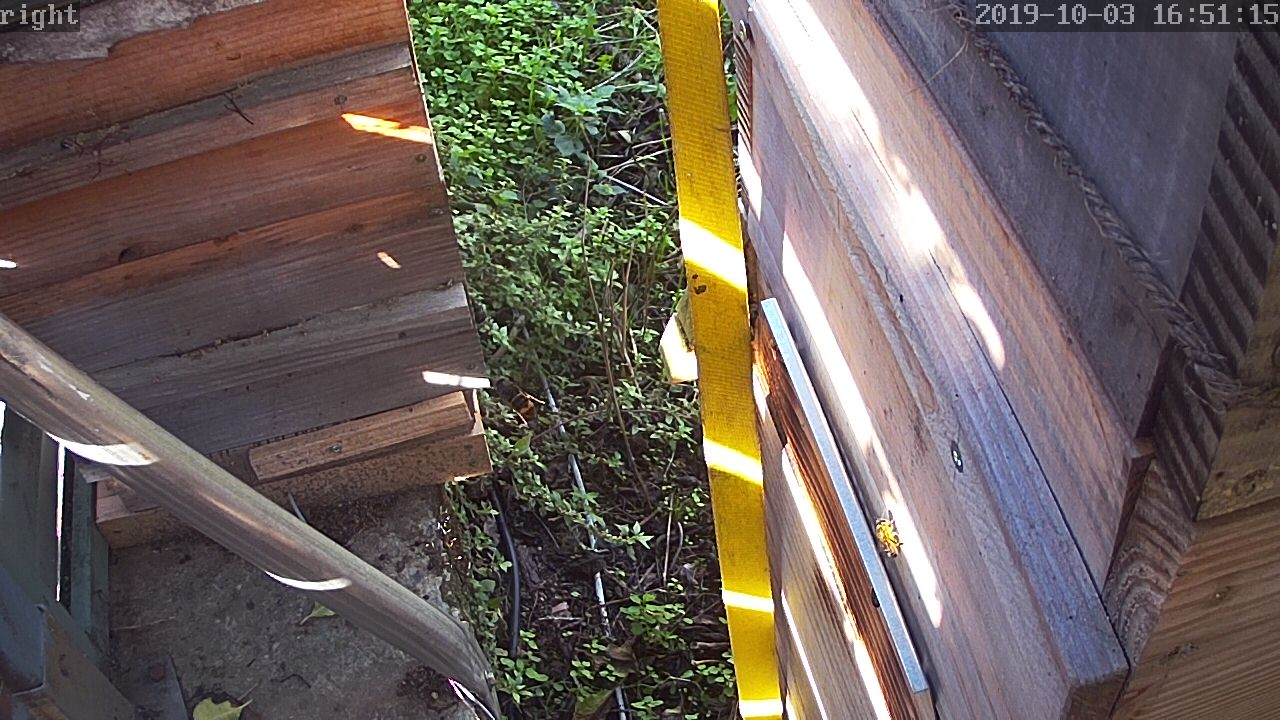bee: (869, 512, 905, 561)
hornet: (487, 374, 547, 426)
